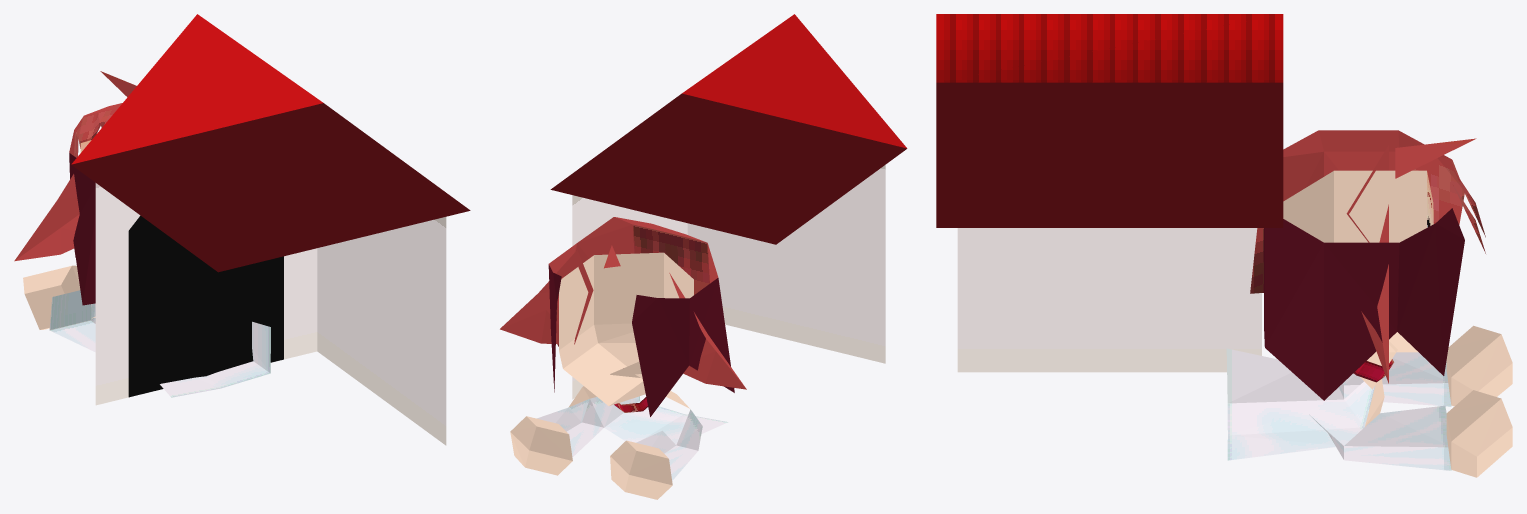
Rendered from ps2_save-icons_purepuremimitoshipponomonogatari.glb.
The picture shows the model from 3 angles, left to right: view 1: azimuth 30°, elevation 25°; view 2: azimuth 150°, elevation 25°; view 3: azimuth 270°, elevation 25°; orthographic projection. The views are drawn at different scales.
Visible parts, largest first — view 1: icon.ico; view 2: icon.ico; view 3: icon.ico.
Boxes of the visible parts, <box> form: icon.ico: <box>14,14,470,445</box>; icon.ico: <box>500,14,907,499</box>; icon.ico: <box>936,14,1512,477</box>.
Bounding box in the file's own units: 2.23 × 2.75 × 3.41.
Materials: 1 (1 with a texture image).
